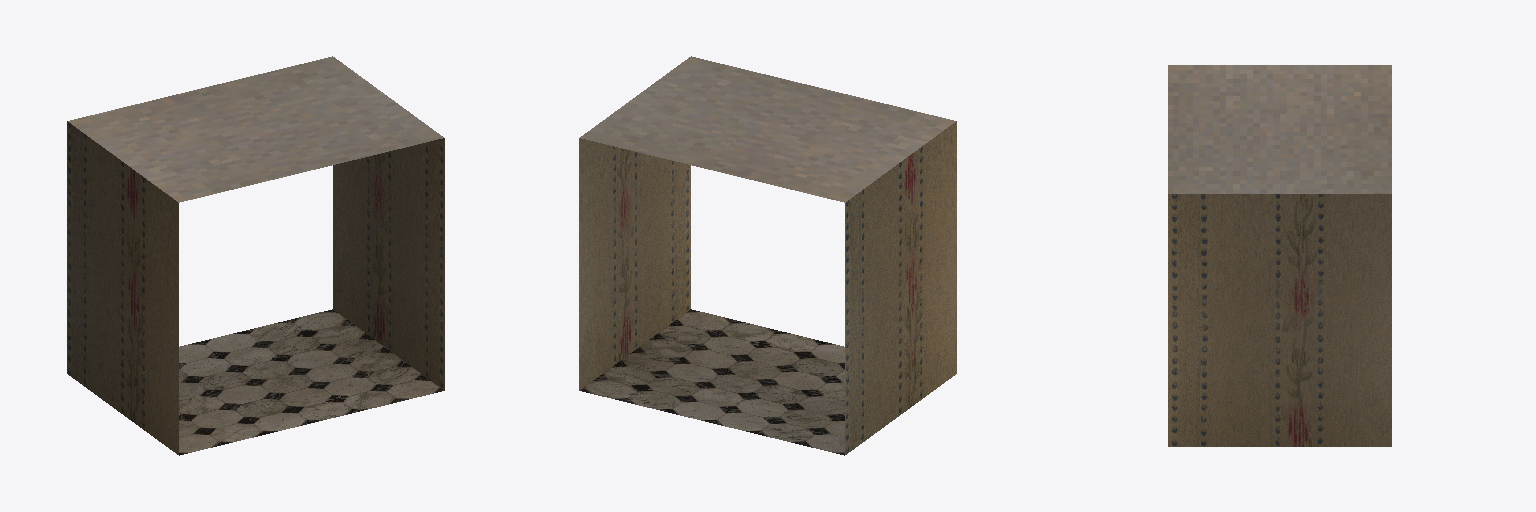
The picture shows the model from 3 angles: view 1: azimuth 30°, elevation 25°; view 2: azimuth 150°, elevation 25°; view 3: azimuth 270°, elevation 25°; orthographic projection.
Parts seen in each view (by area): view 1: Hallway_Cube.001; view 2: Hallway_Cube.001; view 3: Hallway_Cube.001.
Part boxes in pixels (left/top/right/bottom): Hallway_Cube.001: left=67, top=56, right=444, bottom=455; Hallway_Cube.001: left=579, top=56, right=956, bottom=455; Hallway_Cube.001: left=1168, top=65, right=1391, bottom=446.
Bounding box in the file's own units: 5.5 × 5 × 4.
1 materials, 1 textured.